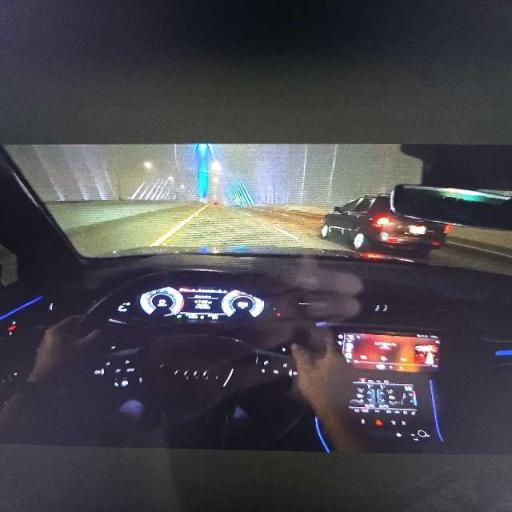car: (0, 146, 511, 509), (321, 195, 451, 257), (212, 200, 218, 206)
lane: (68, 203, 351, 256), (65, 203, 201, 256), (162, 206, 301, 248), (252, 208, 354, 251)
person: (0, 316, 101, 443)
